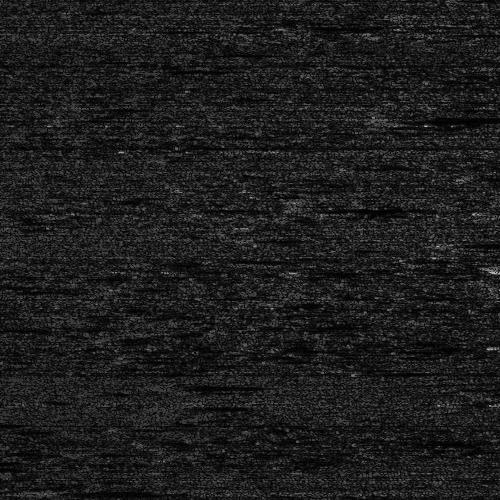object: (318, 111, 401, 122), (415, 240, 478, 247), (19, 488, 92, 493), (469, 261, 500, 272)
shadow: (360, 111, 487, 122), (55, 488, 184, 493), (446, 240, 500, 247)
